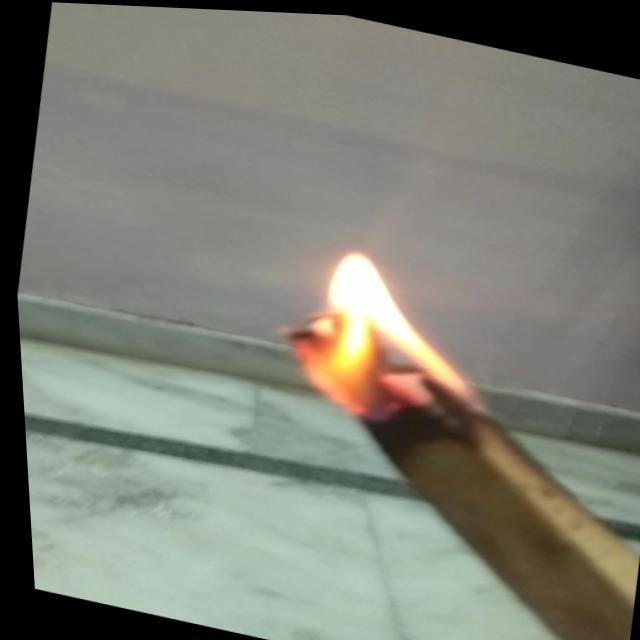fire: (239, 221, 483, 434)
